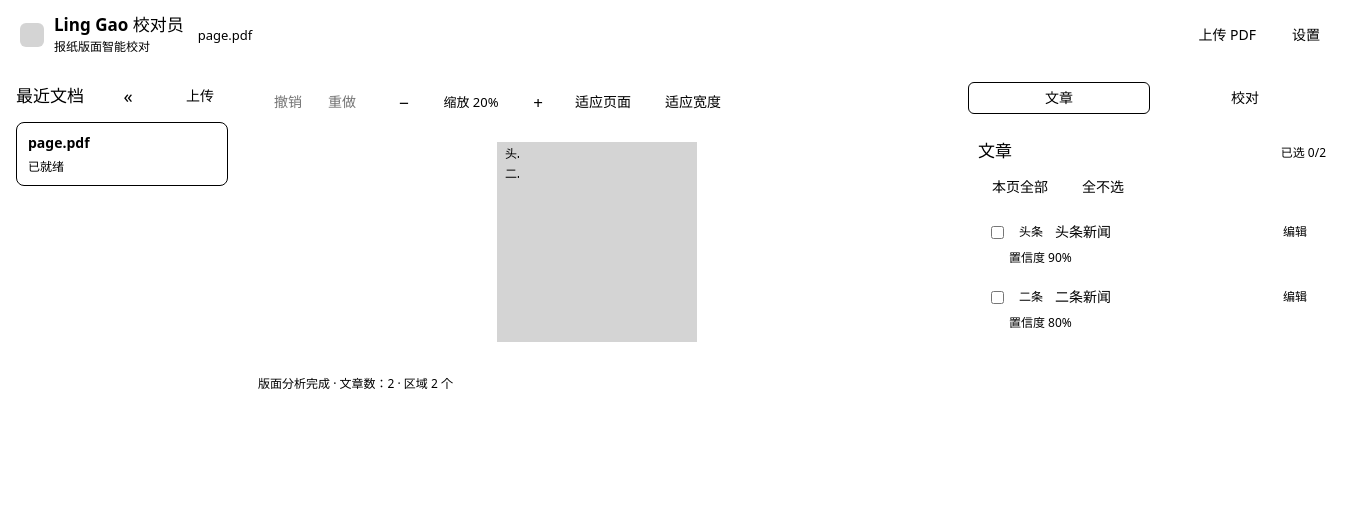
Scenario: App proofreading integration › starts only after confirmation with the selected article ids, depth and factCheck
Earlier steps of the test are not shown.
Later steps or results of the test are not shown.
Click the button "本页全部": [1020, 187] box [978,171,1062,203]
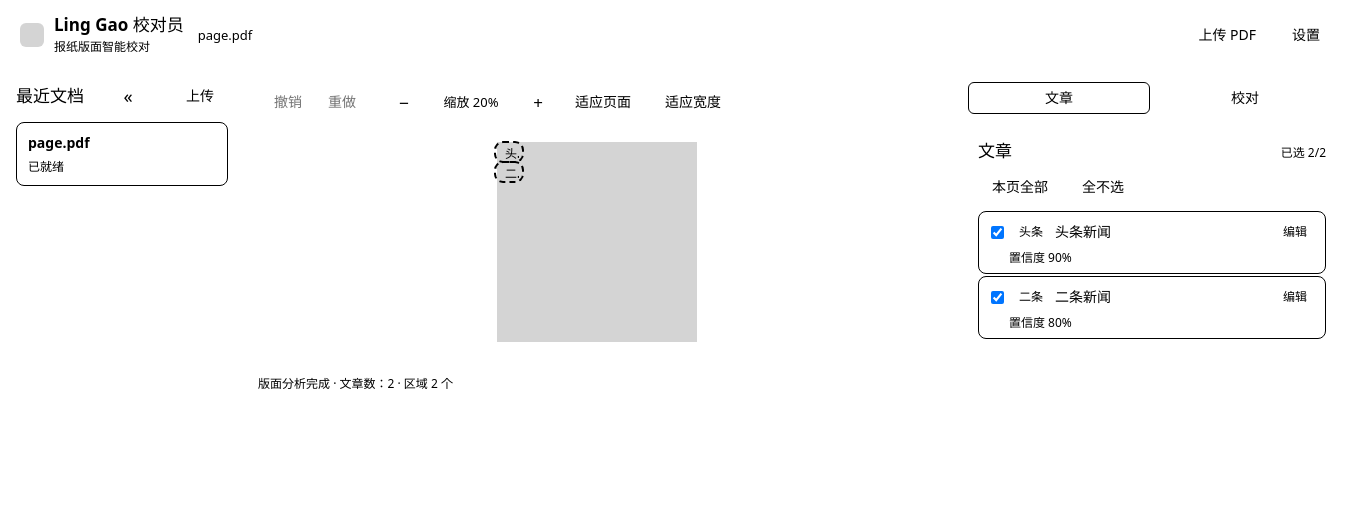
Click the tab "校对": [1245, 98] box [1154,82,1336,114]
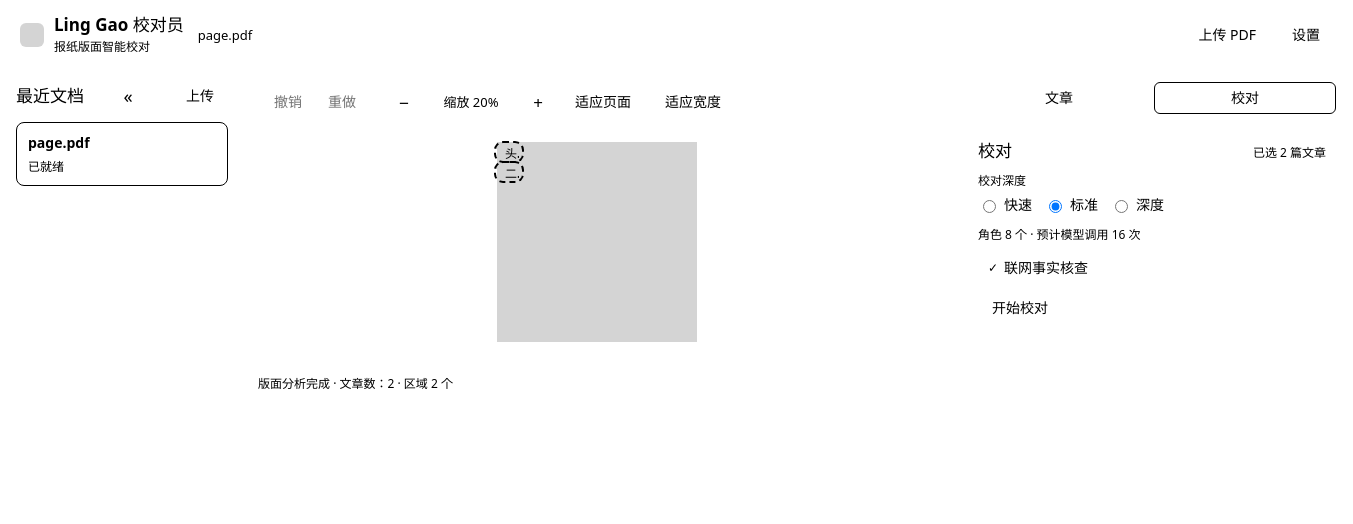
Click the radio button labelled "深度": [1122, 207] box [1115,200,1128,213]
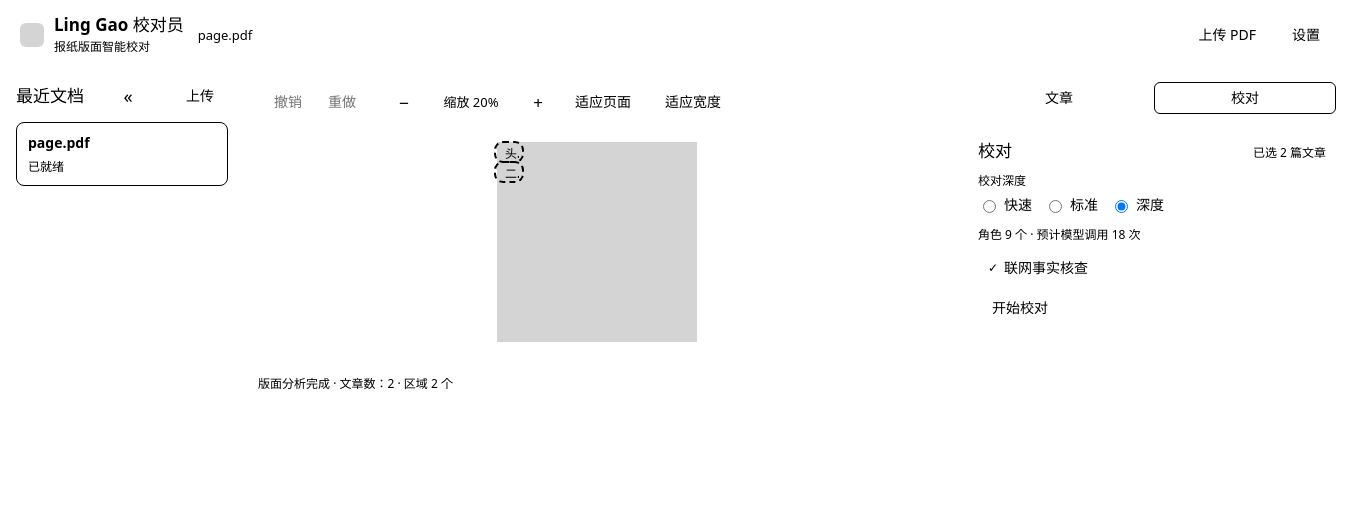
Click the switch labelled "联网事实核查": [1038, 268] box [978,252,1098,284]
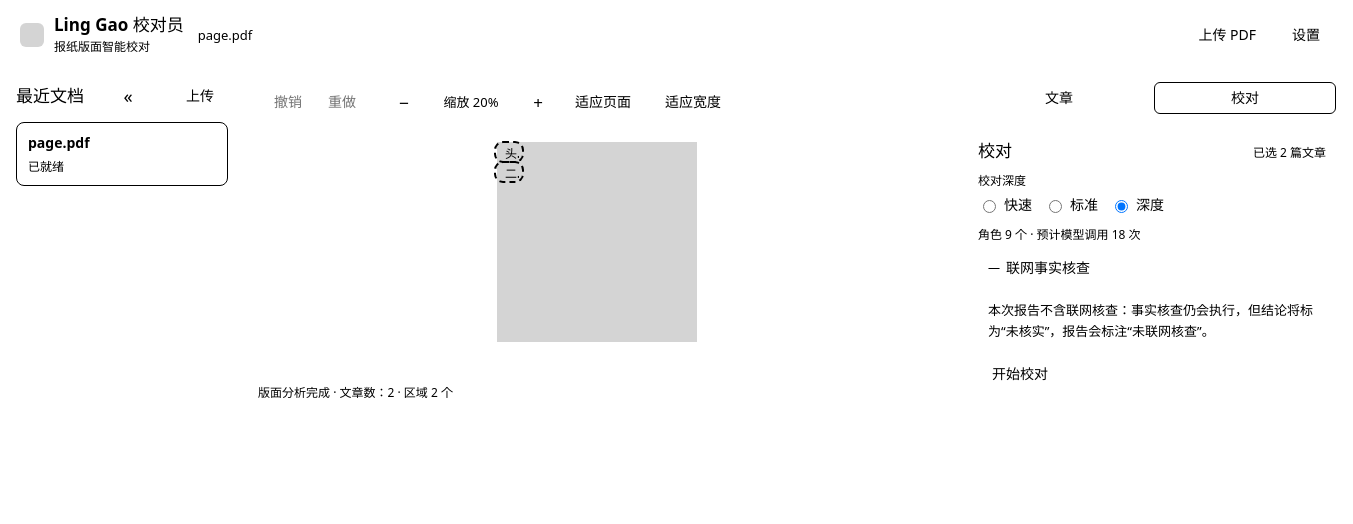
Click the button "开始校对": [1020, 374] box [978,358,1062,390]
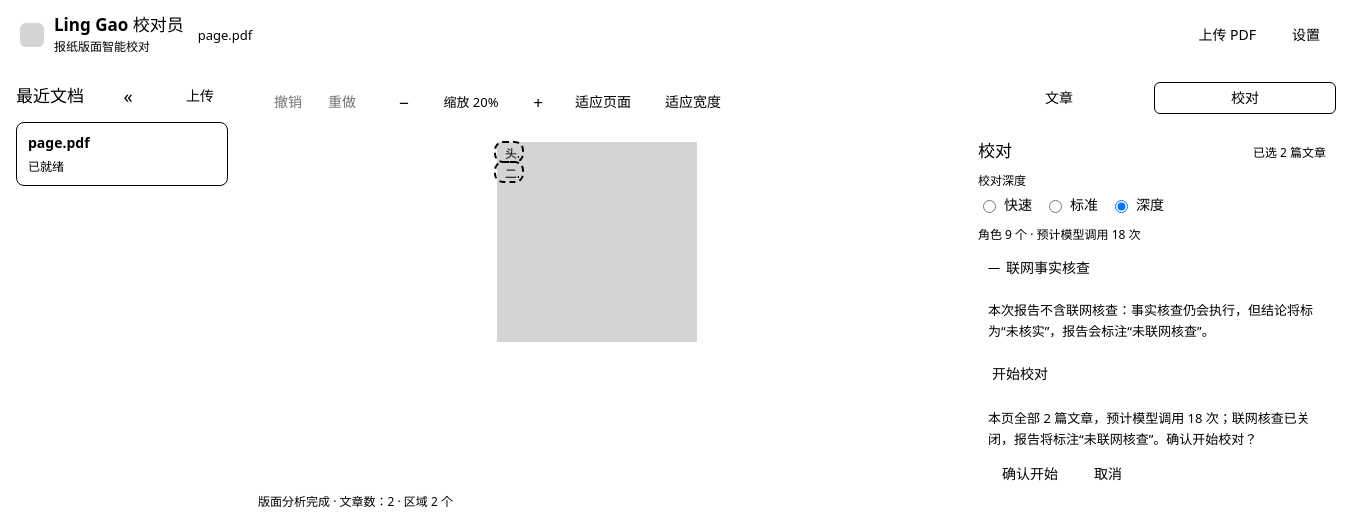
Expected: the text "本页全部 2 篇文章，预计模型调用 18 次；联网核查已关闭，报告将标注“未联网核查”。确认开始校对？" is shown, [988,408,1316,449]
